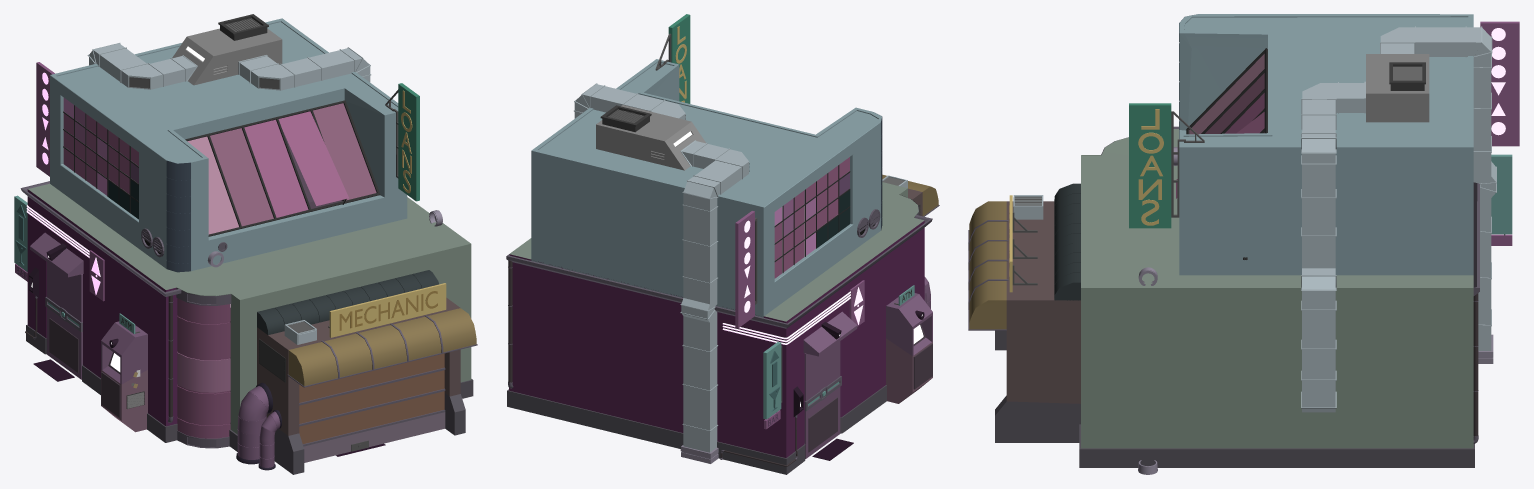
Rendered from CyberPunkBuilding1.fbx.
3 renders of one model, left to right at view 1: azimuth 30°, elevation 25°; view 2: azimuth 150°, elevation 25°; view 3: azimuth 270°, elevation 25°, orthographic. The views are drawn at different scales.
Visible parts, largest first — view 1: Cube.008; view 2: Cube.008; view 3: Cube.008.
Part boxes in pixels (bbox=[...]): Cube.008: bbox=[14, 14, 477, 474]; Cube.008: bbox=[506, 14, 939, 474]; Cube.008: bbox=[968, 14, 1519, 474].
Bounding box in the file's own units: 3629 × 3176 × 4612.
